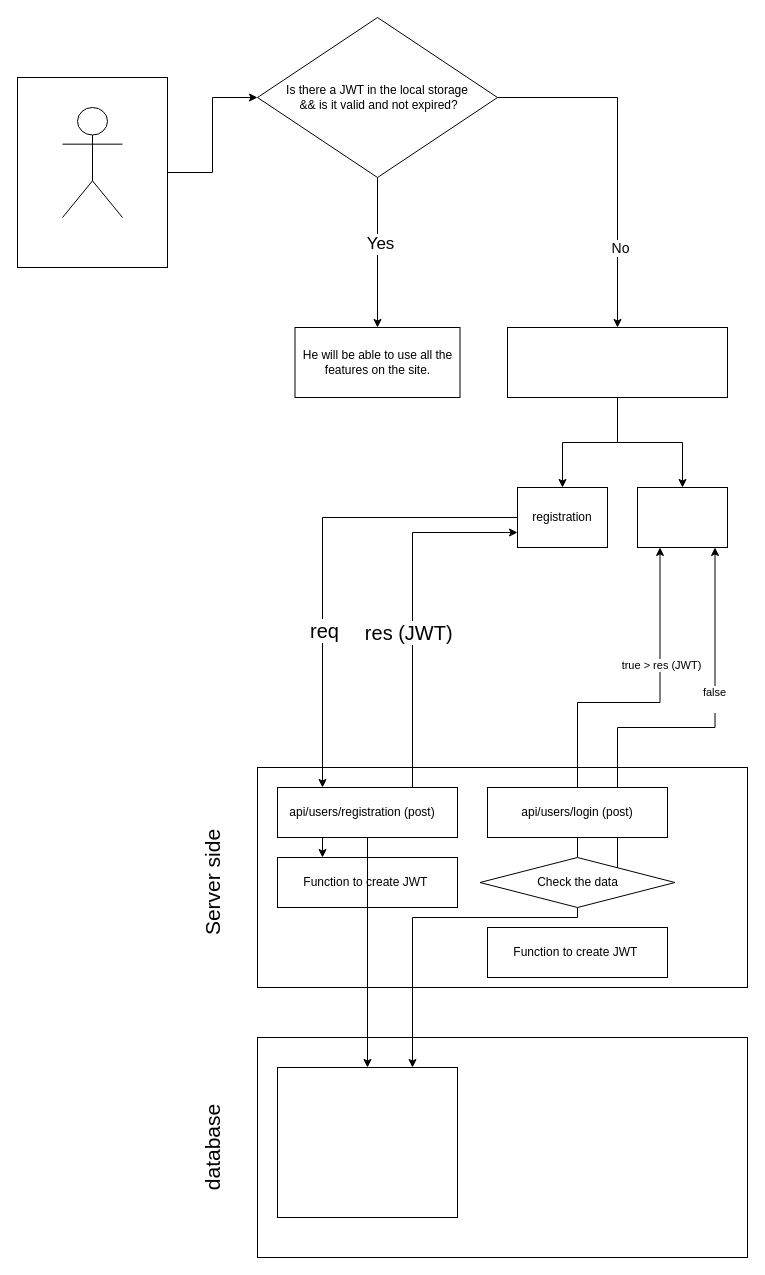
Image size: 765x1275. Some labels were removed from this diagram. Here are the shapes that lost their labels. From the top down, the centre of each, then its label:
At [92,162]: "client".
At [617,362]: "He will choose either to create an account or to log in.".
At [682,517]: "Login".
At [367,1142]: "User Collection".
